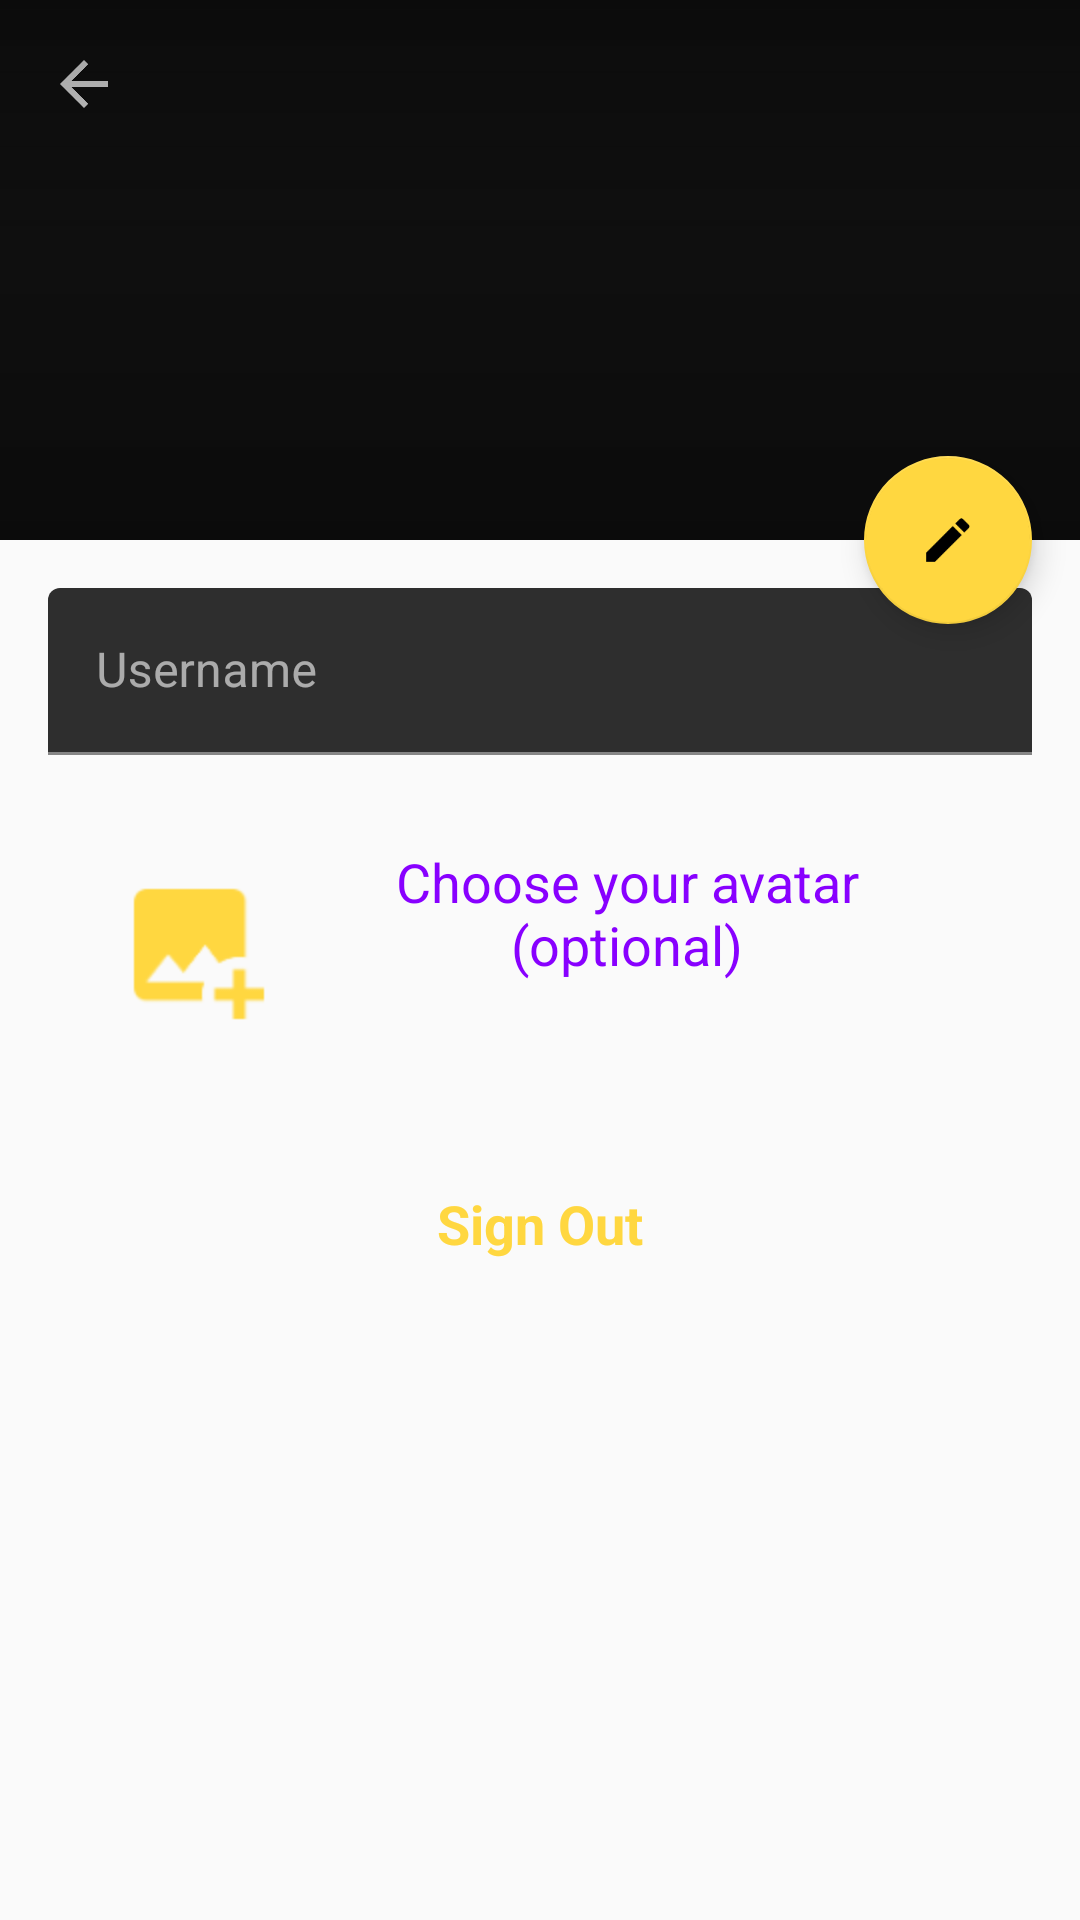

Icons on this 1080px×1920px Android screen, each with the point to tap as (x,y):
pencil: (948,540)
